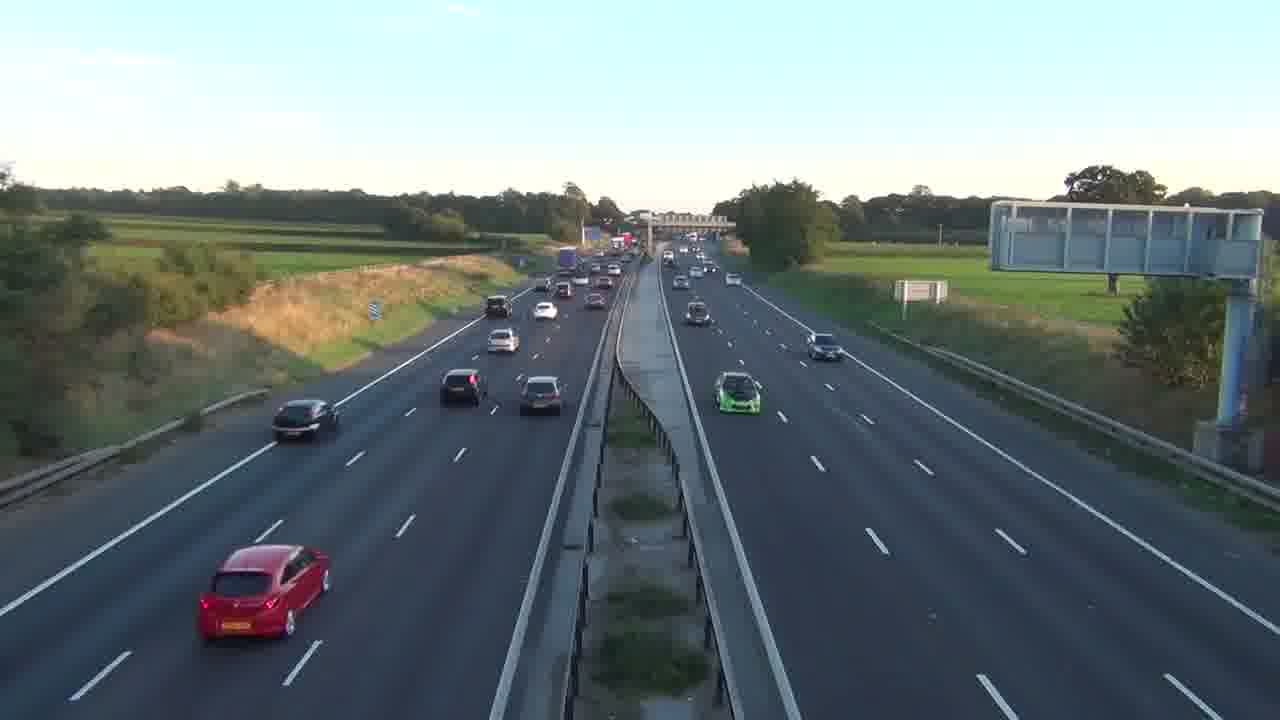car: (196, 543, 333, 643), (271, 398, 334, 440), (713, 370, 764, 415), (520, 375, 563, 416), (440, 368, 482, 406), (806, 333, 843, 362), (487, 328, 520, 353)
truck: (196, 543, 333, 643)
